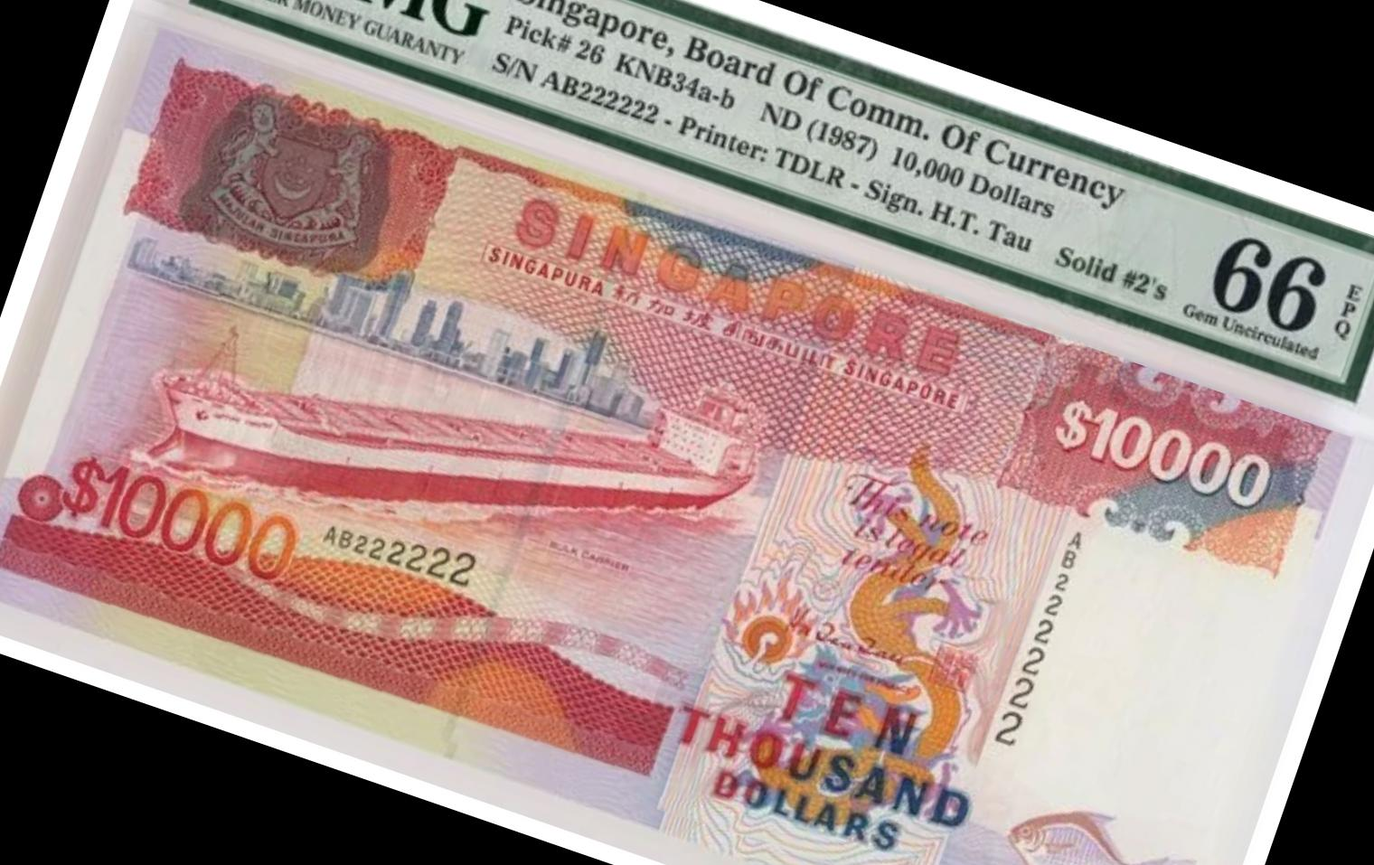10000SingaporeDollar: (0, 29, 1351, 865)
